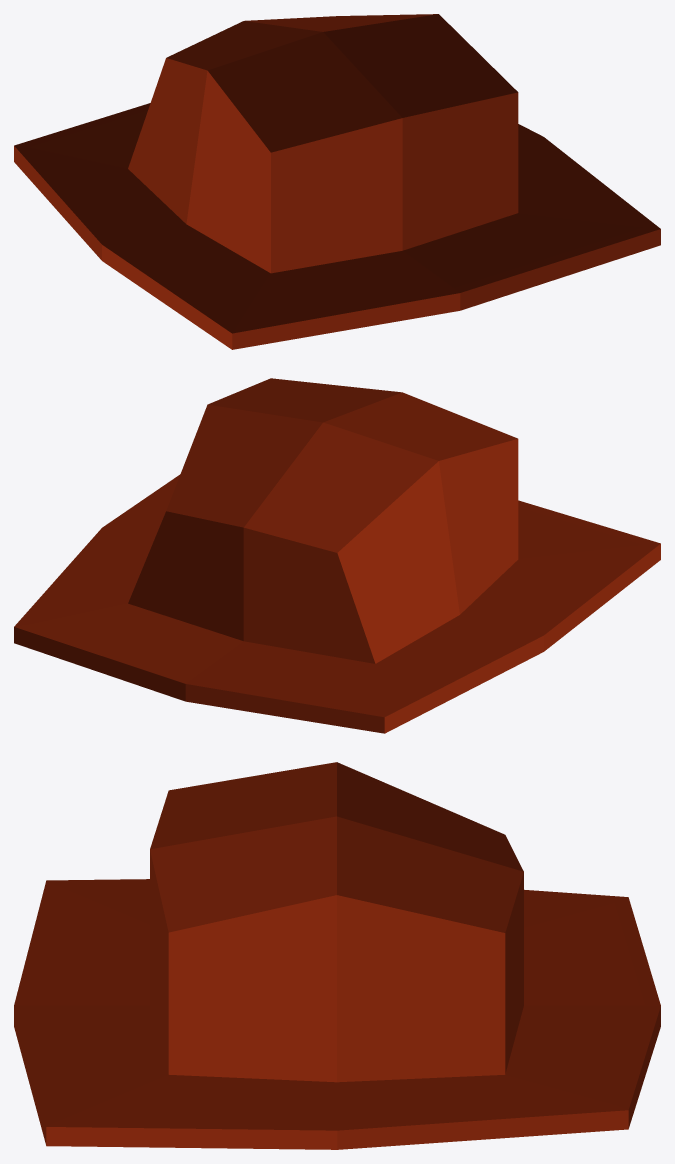
Rendered from Hat 1.fbx.
3 renders of one model, top to bottom at view 1: azimuth 30°, elevation 25°; view 2: azimuth 150°, elevation 25°; view 3: azimuth 270°, elevation 25°, orthographic. The views are drawn at different scales.
Visible parts, largest first — view 1: Node 0; view 2: Node 0; view 3: Node 0.
Part boxes in pixels (bbox=[...]): Node 0: bbox=[14, 14, 660, 349]; Node 0: bbox=[14, 378, 660, 733]; Node 0: bbox=[14, 762, 660, 1149].
Bounding box in the file's own units: 0.4905 × 0.1758 × 0.4555.
